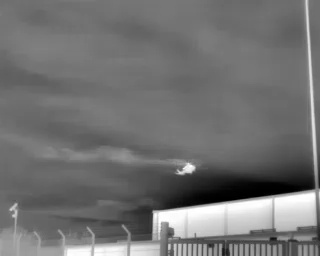HELICOPTER: (168, 154, 213, 182)
